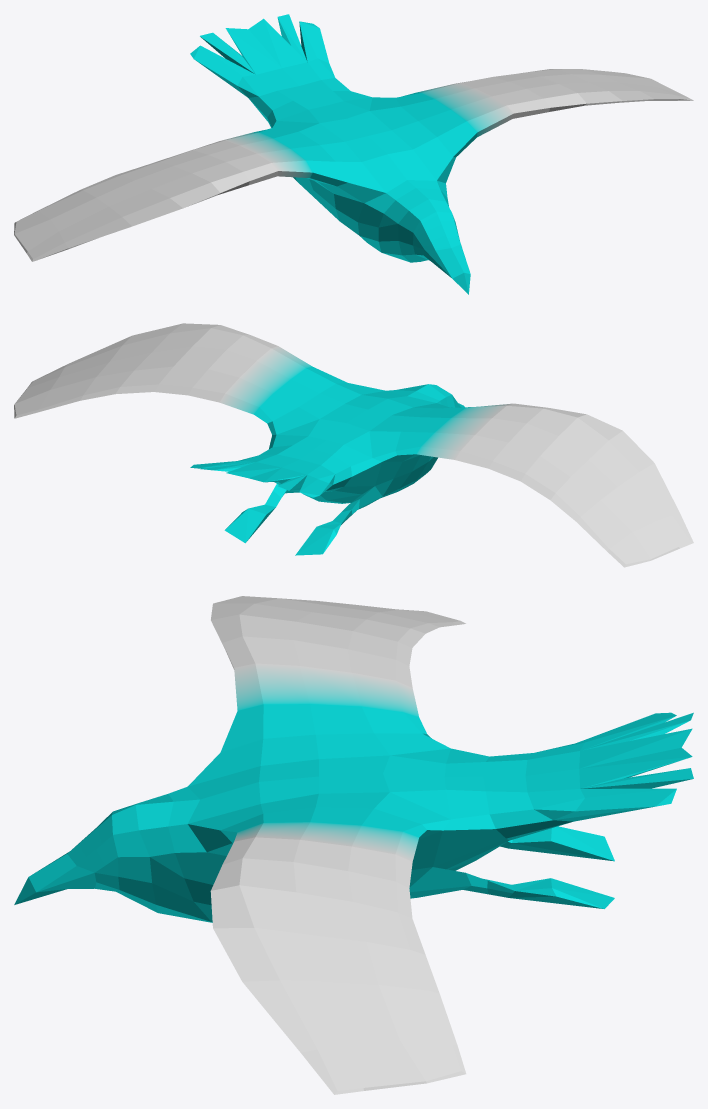
Rendered from crow2.fbx.
3 views of the same model, one above another, from view 1: azimuth 30°, elevation 25°; view 2: azimuth 150°, elevation 25°; view 3: azimuth 270°, elevation 25° (orthographic). The views are drawn at different scales.
Parts seen in each view (by area): view 1: Bird; view 2: Bird; view 3: Bird.
Part boxes in pixels (<box>): Bird: <box>14,14,693,294</box>; Bird: <box>14,323,693,567</box>; Bird: <box>14,596,693,1094</box>.
Size of the model in its own units: 33.75 by 5.58 by 19.84.
